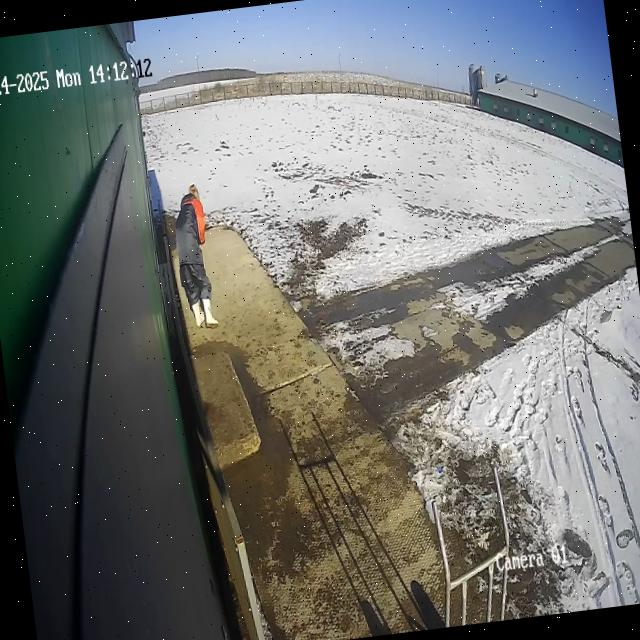Red uniform: (167, 181, 221, 333)
